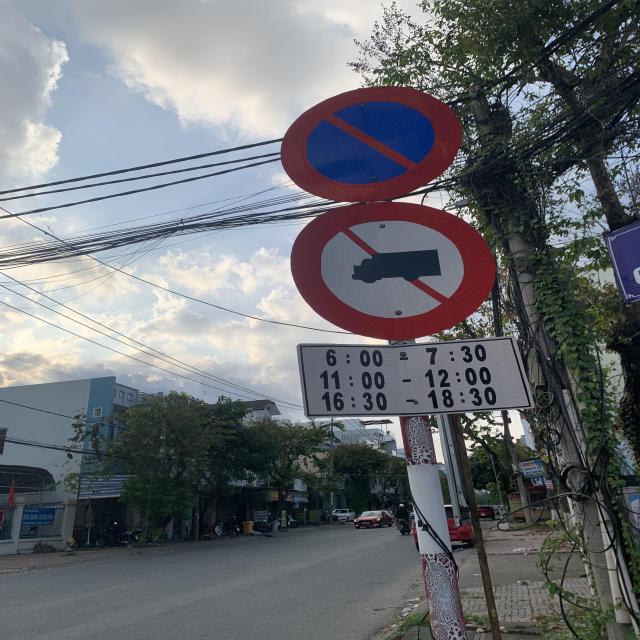Cam_Dau_Xe: (278, 84, 463, 204)
Cam_Xe_Tai: (289, 203, 496, 340)
